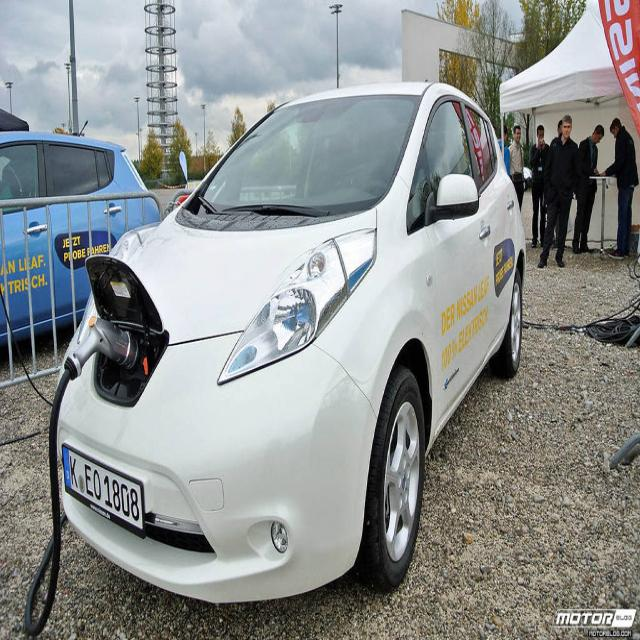car: (47, 86, 523, 603)
